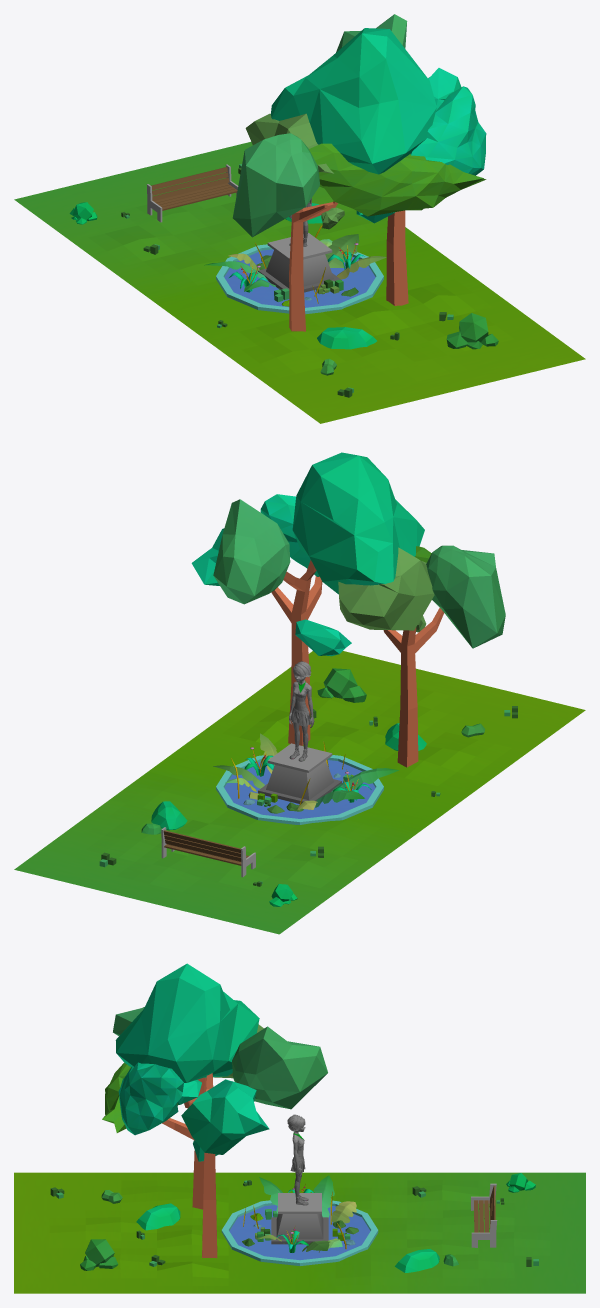
Rendered from Monument_Mati.gltf.
The picture shows the model from 3 angles, top to bottom: view 1: azimuth 30°, elevation 25°; view 2: azimuth 150°, elevation 25°; view 3: azimuth 270°, elevation 25°; orthographic projection. The views are drawn at different scales.
Visible parts, largest first — view 1: PERSONAJE personaje Subdivisi_n_Superficie_1 personaje1 per., woodPlanksBench001; view 2: PERSONAJE personaje Subdivisi_n_Superficie_1 personaje1 per., woodPlanksBench001; view 3: PERSONAJE personaje Subdivisi_n_Superficie_1 personaje1 per., woodPlanksBench001.
Part boxes in pixels (bbox=[...]): PERSONAJE personaje Subdivisi_n_Superficie_1 personaje1 per.: bbox=[14, 14, 585, 423]; woodPlanksBench001: bbox=[146, 164, 238, 222]; PERSONAJE personaje Subdivisi_n_Superficie_1 personaje1 per.: bbox=[14, 452, 585, 934]; woodPlanksBench001: bbox=[161, 827, 255, 877]; PERSONAJE personaje Subdivisi_n_Superficie_1 personaje1 per.: bbox=[14, 963, 585, 1293]; woodPlanksBench001: bbox=[471, 1183, 497, 1247].
Size of what is drawn, in the model's own units: 10 by 10.52 by 20.
Materials: 3 (1 with a texture image).
